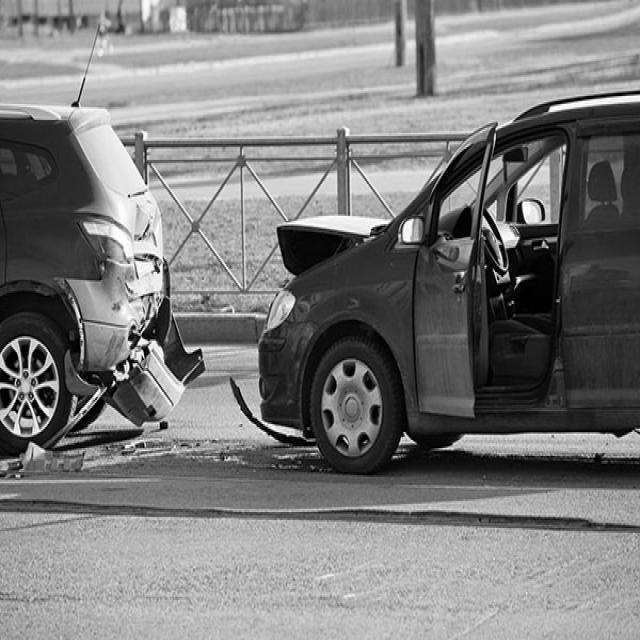crush: (43, 193, 205, 448), (276, 214, 392, 277)
